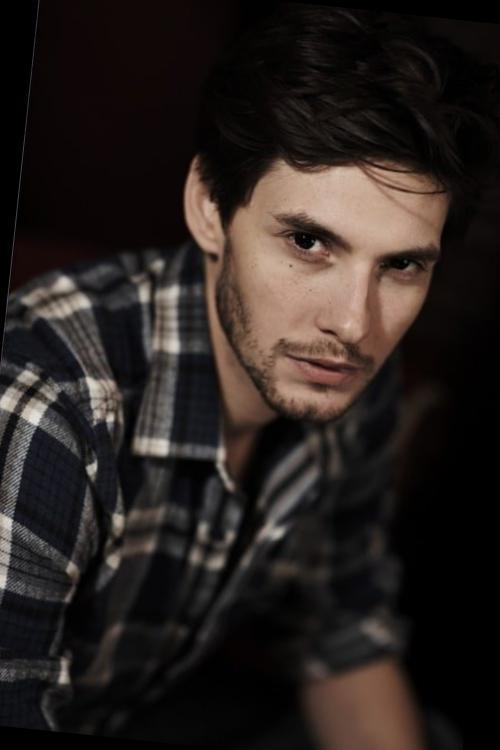Sober: (239, 159, 434, 406)
